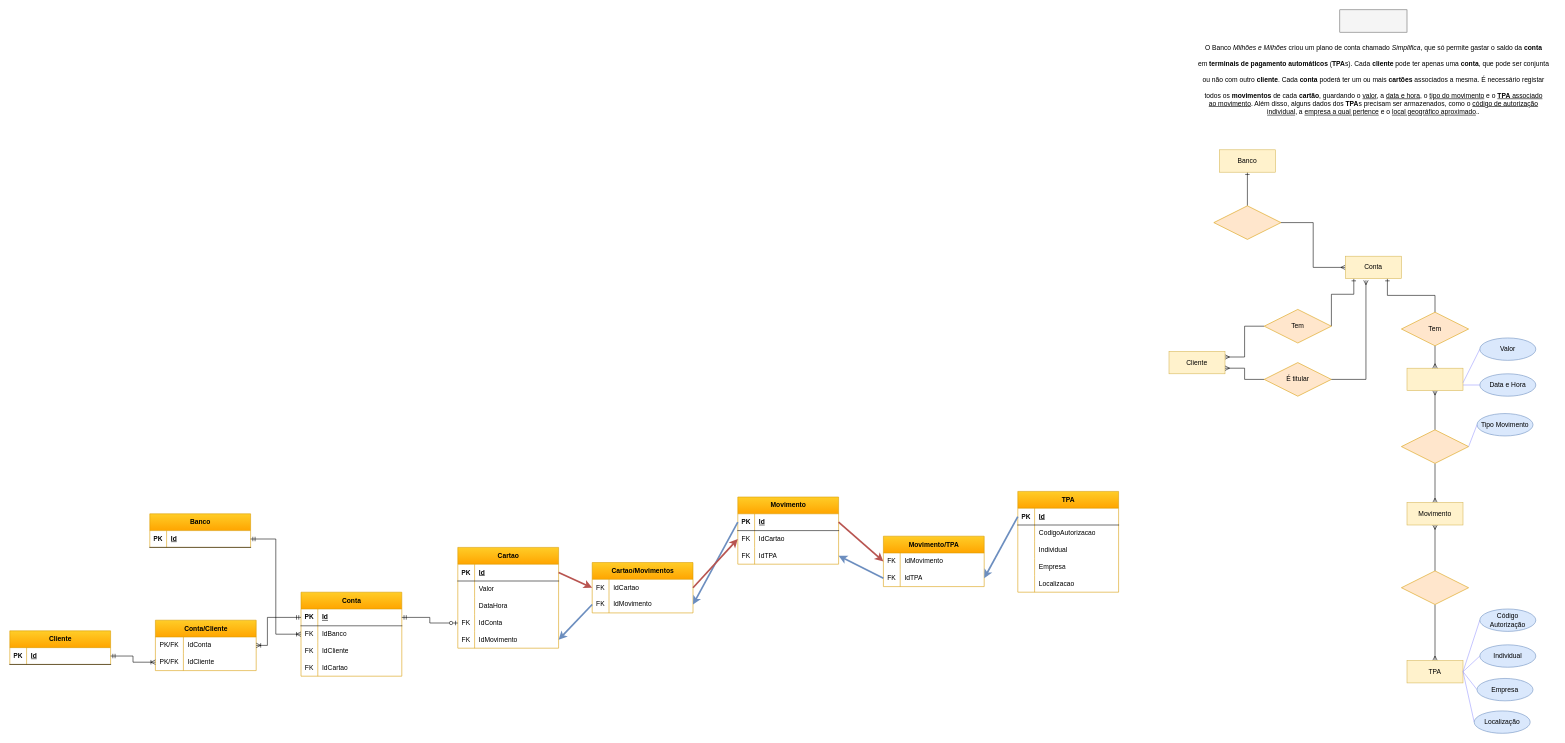
Image size: 1565x743. Some labels were removed from this diagram. Here are the shapes that lost their labels. From the top down, the centre of each, then its label:
pixel 1373 20: Exercício 2
pixel 1247 222: Contém
pixel 1434 379: Cartão
pixel 1435 446: Realiza
pixel 1435 587: Levanta
